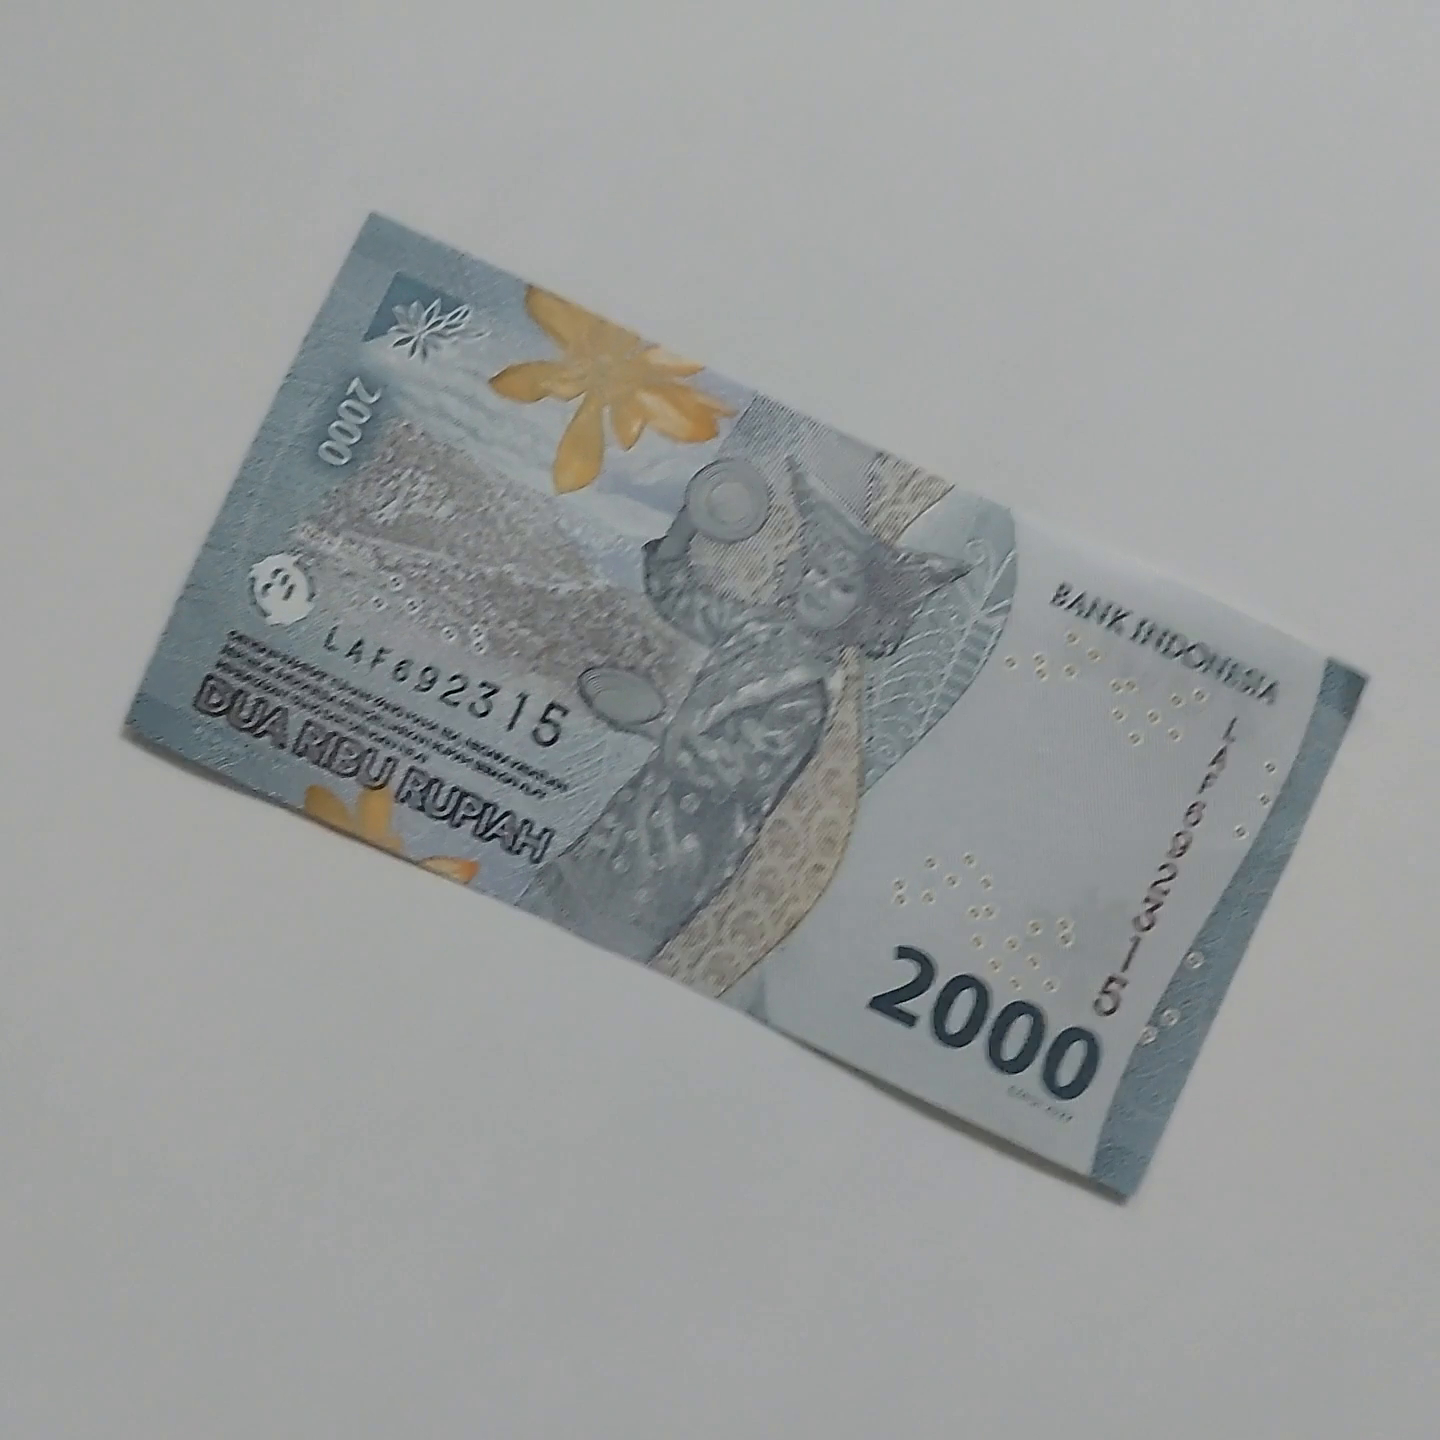2k: (352, 181, 1440, 814)
